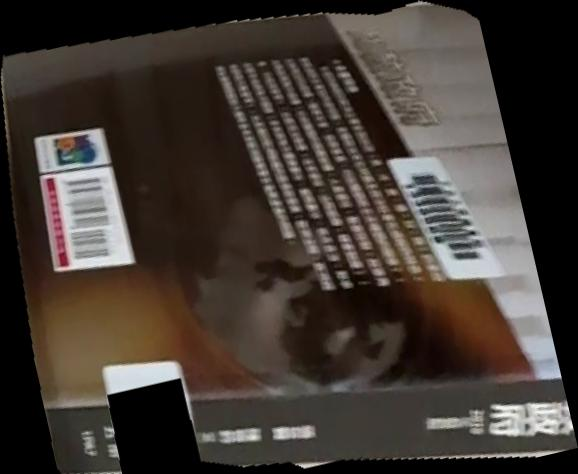flat: (1, 1, 578, 474)
